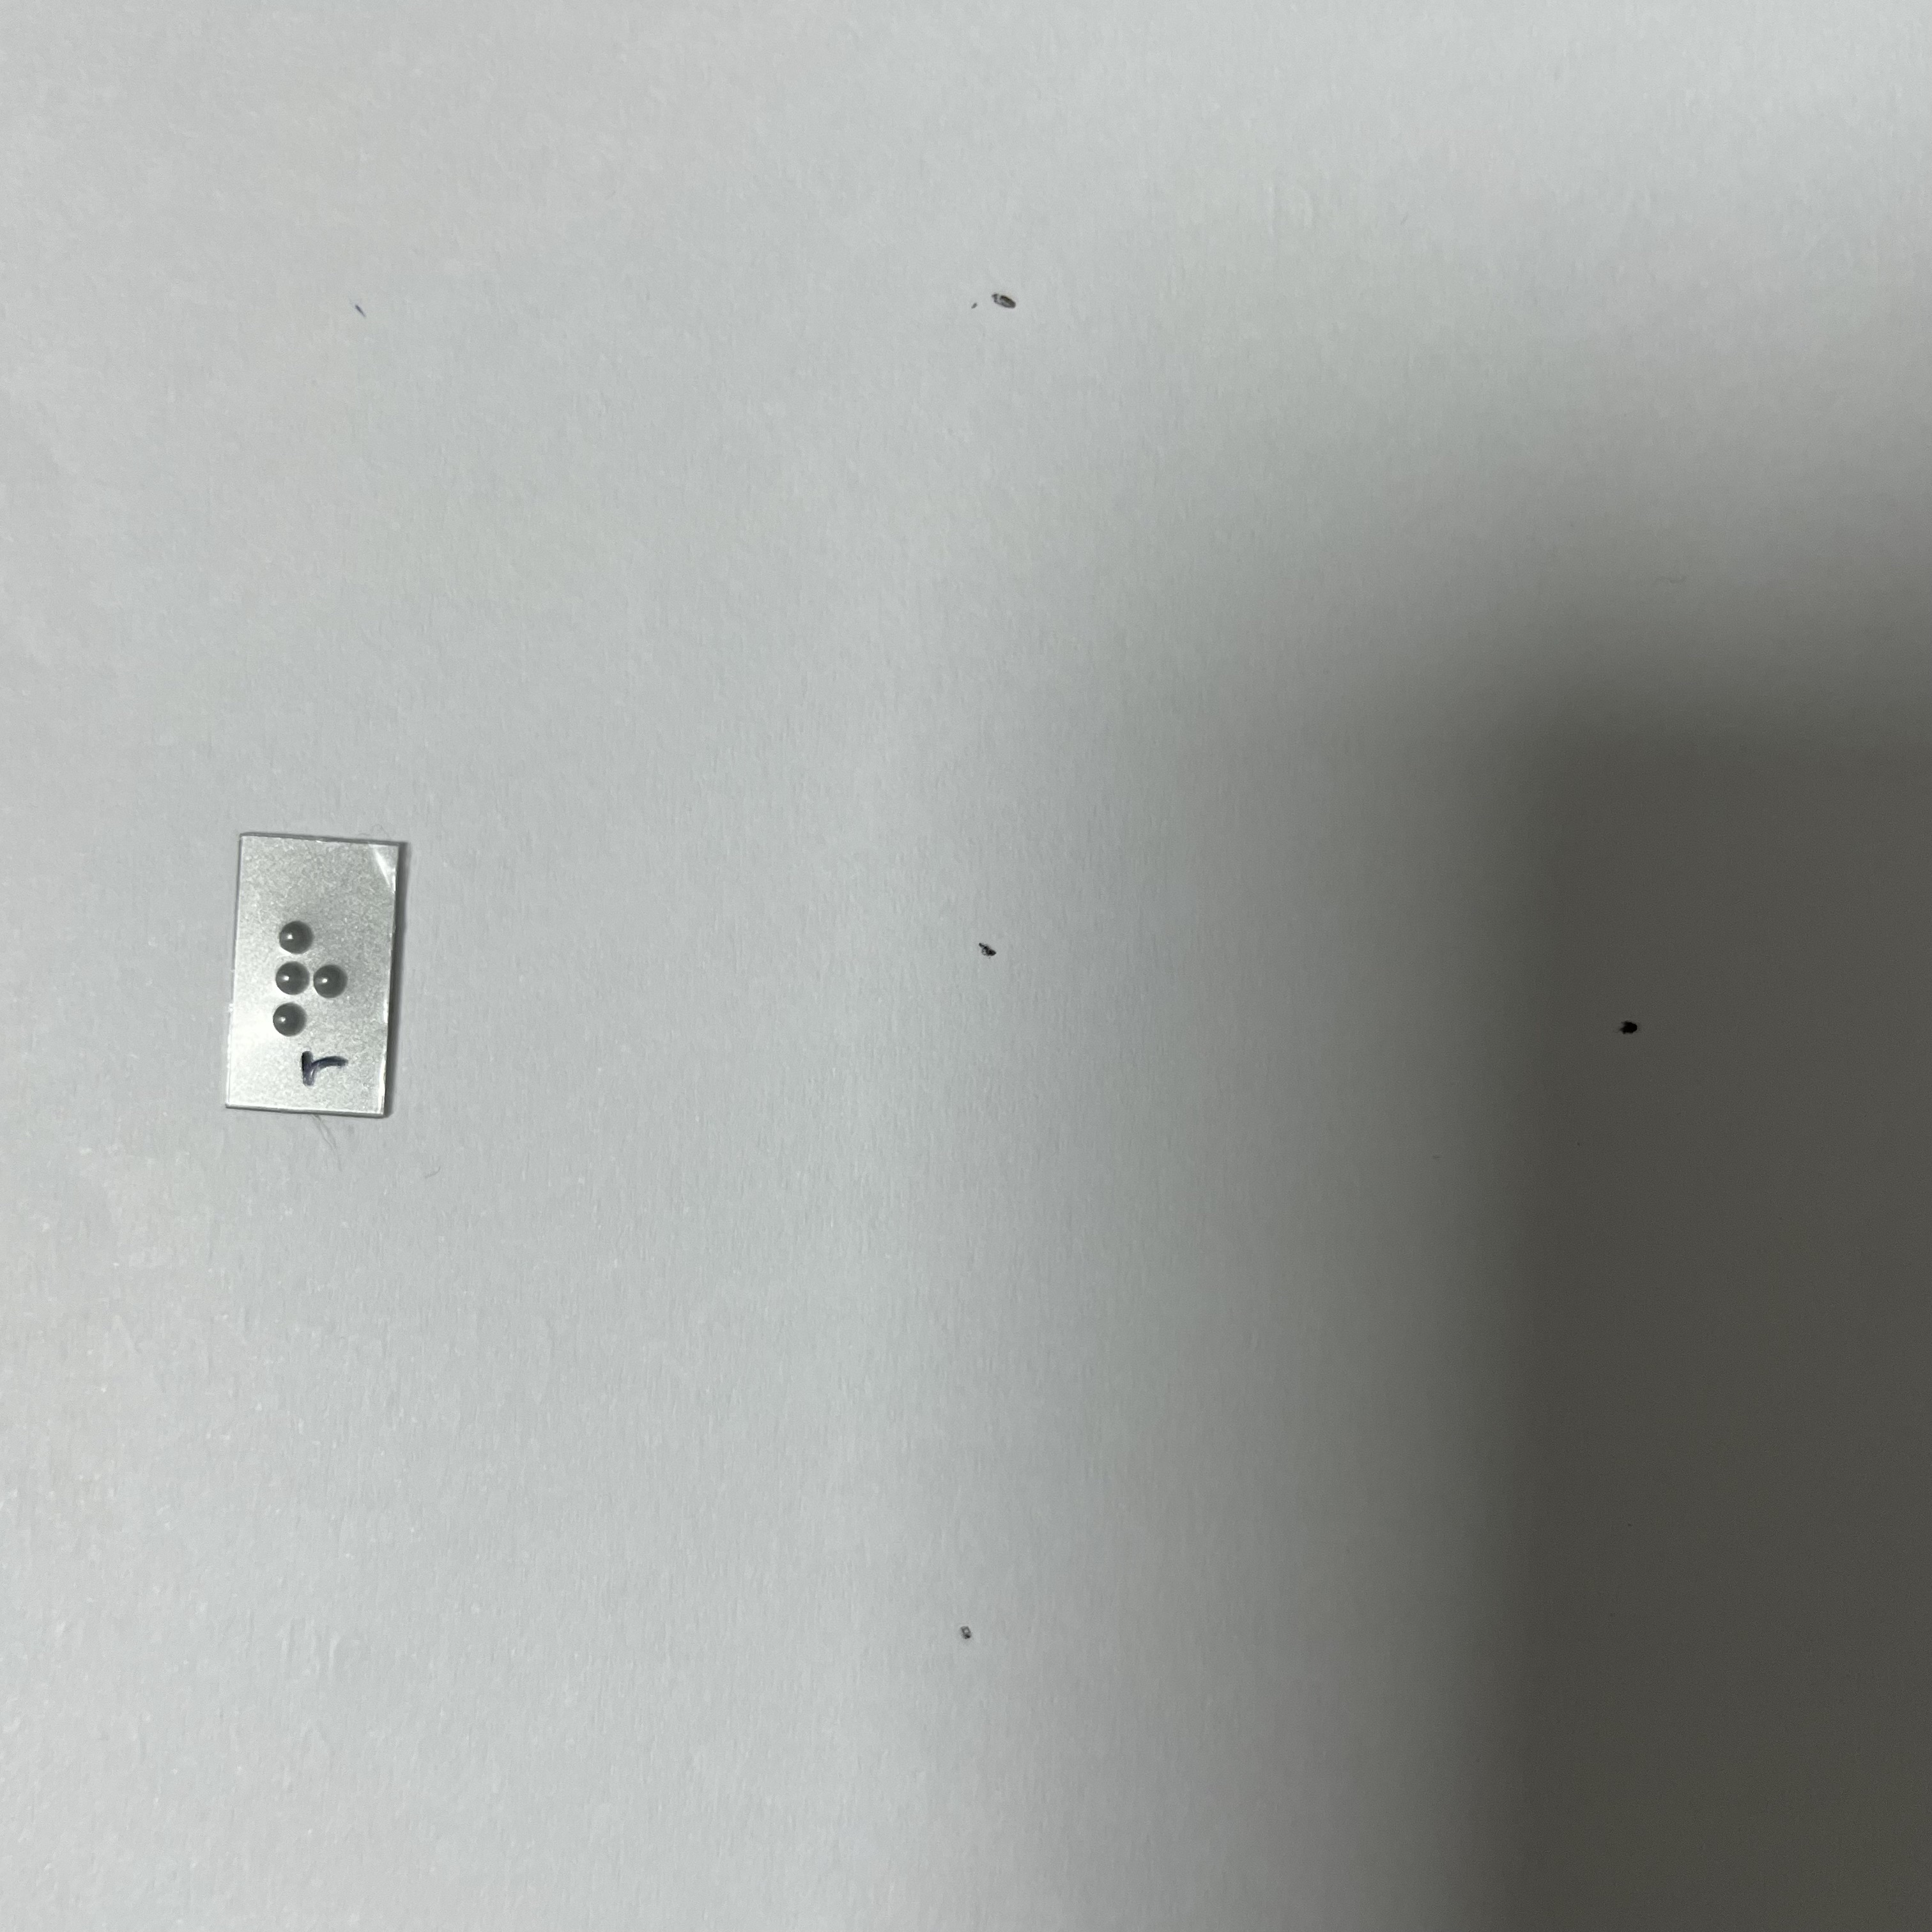r: (254, 909, 355, 1044)
